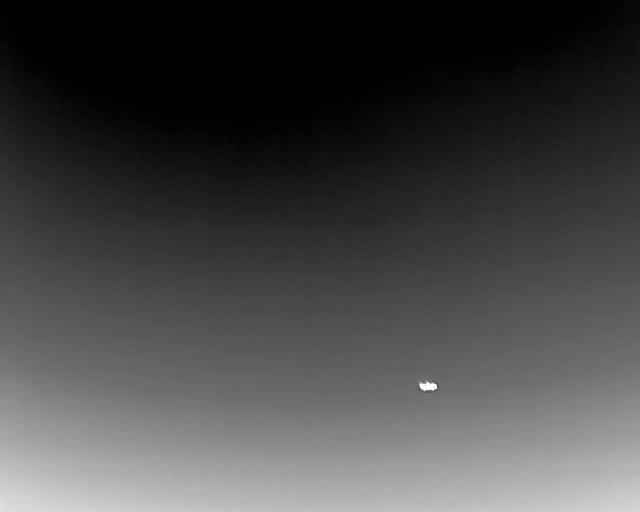fpv-drone: (416, 379, 439, 393)
